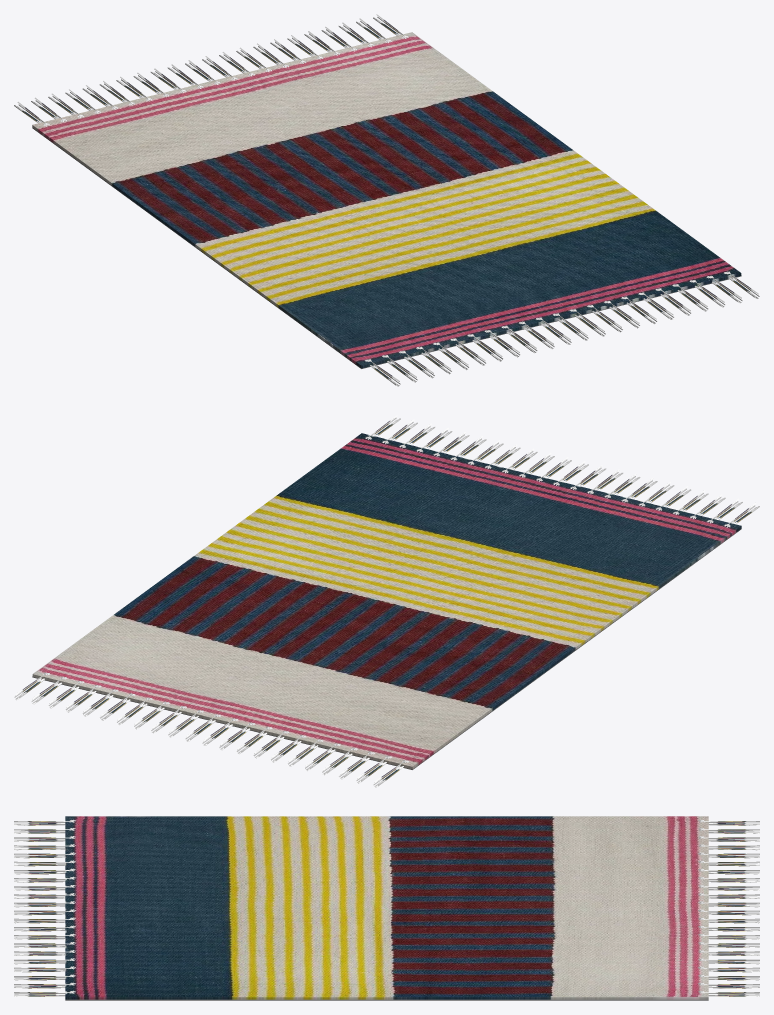
The picture shows the model from 3 angles, top to bottom: view 1: azimuth 30°, elevation 25°; view 2: azimuth 150°, elevation 25°; view 3: azimuth 270°, elevation 25°; orthographic projection. The views are drawn at different scales.
Parts seen in each view (by area): view 1: 10615135_10615135_cn; view 2: 10615135_10615135_cn; view 3: 10615135_10615135_cn.
Boxes of the visible parts, x1,y1,x2,y2 form: 10615135_10615135_cn: (14, 14, 759, 386); 10615135_10615135_cn: (14, 415, 759, 787); 10615135_10615135_cn: (14, 816, 759, 1000).
Size of the model in its own units: 0.6002 by 0.00867 by 1.04.
Materials: 2 (1 with a texture image).
